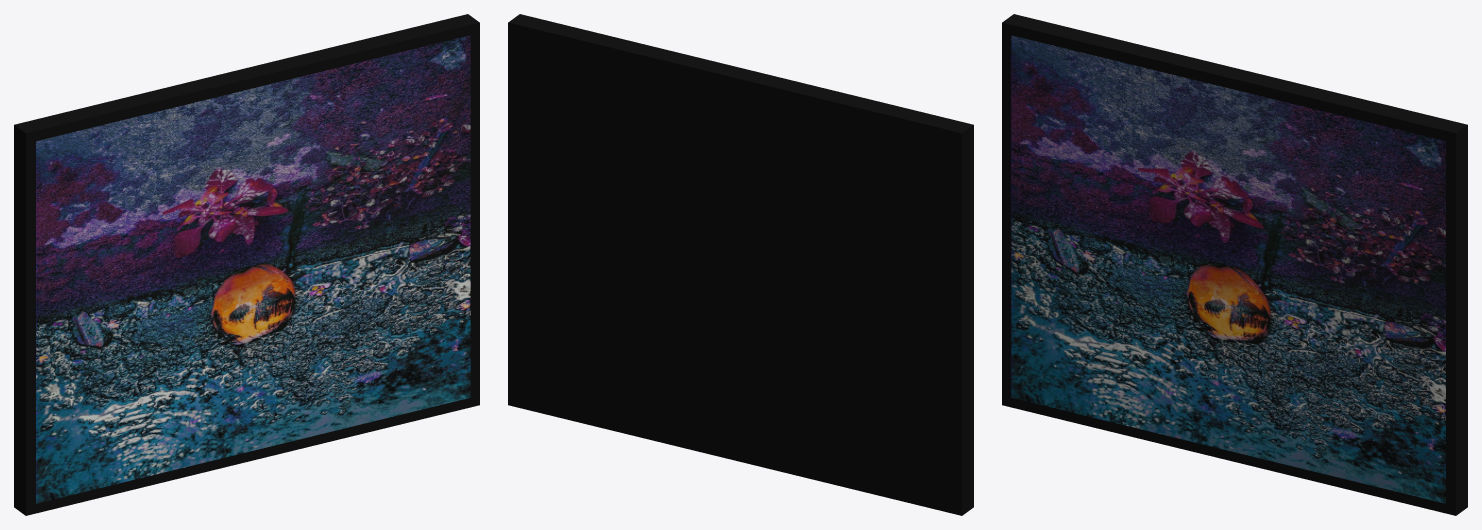
The model's file is after-the-fall.glb.
The picture shows the model from 3 angles, left to right: view 1: azimuth 30°, elevation 25°; view 2: azimuth 150°, elevation 25°; view 3: azimuth 330°, elevation 25°; orthographic projection.
Size of the model in its own units: 0.8488 by 0.6837 by 0.0392.
2 materials, 1 textured.
